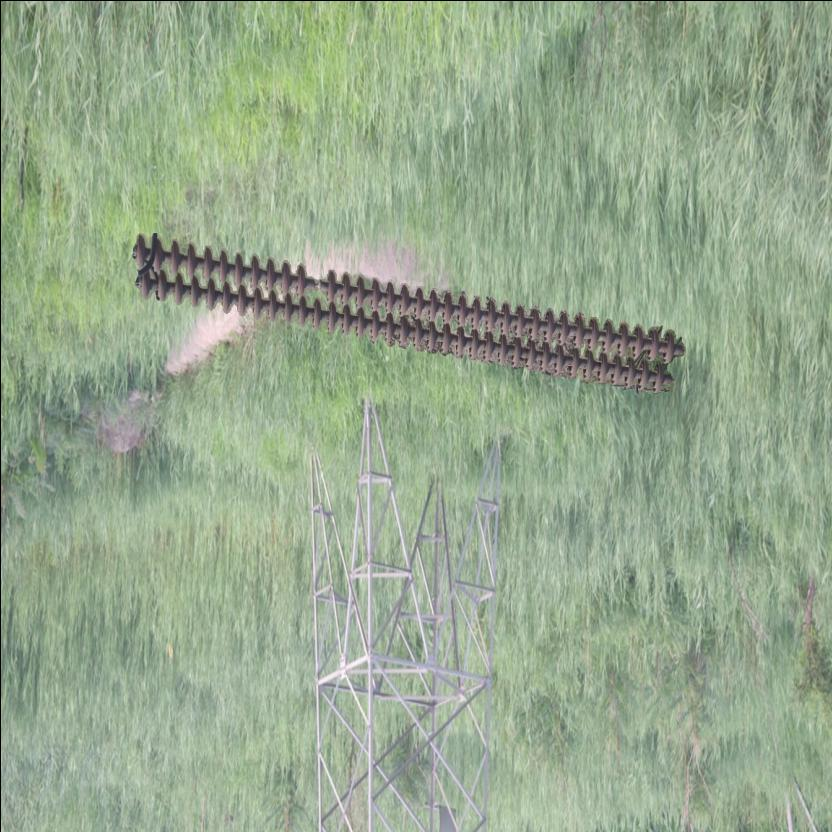defect: (290, 262, 342, 308)
